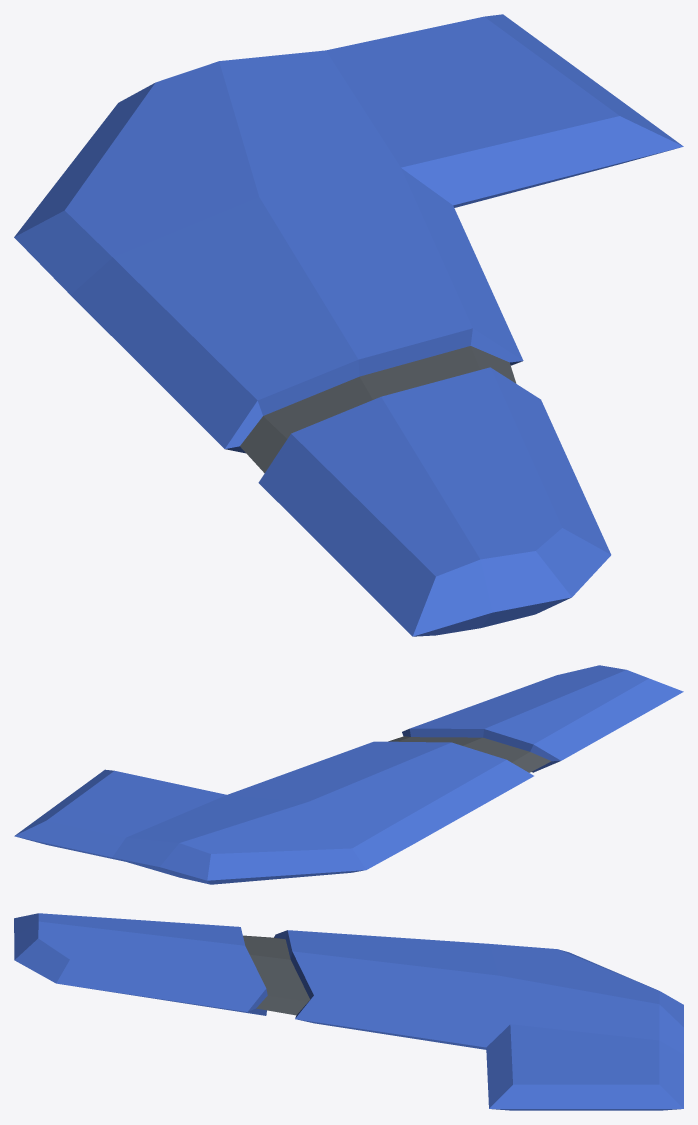
File: Fighter_01_Wings_Right_Blue.fbx
The picture shows the model from 3 angles, top to bottom: view 1: azimuth 30°, elevation 25°; view 2: azimuth 150°, elevation 25°; view 3: azimuth 270°, elevation 25°; orthographic projection. The views are drawn at different scales.
Visible parts, largest first — view 1: Fighter_01_Wings_Right_Blue; view 2: Fighter_01_Wings_Right_Blue; view 3: Fighter_01_Wings_Right_Blue.
Part boxes in pixels (x1,y1,x2,y2): Fighter_01_Wings_Right_Blue: [14, 14, 683, 636]; Fighter_01_Wings_Right_Blue: [14, 665, 683, 884]; Fighter_01_Wings_Right_Blue: [14, 913, 683, 1110].
Size of the model in its own units: 319 by 30.13 by 482.
Materials: 1 (1 with a texture image).
